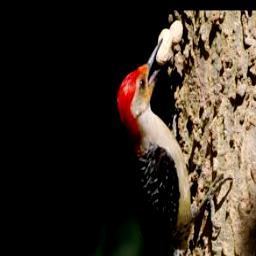Woodpecker: (117, 38, 236, 256)
